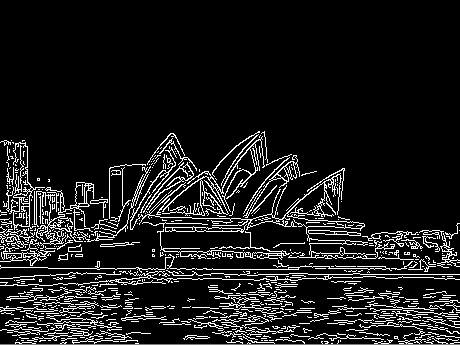opera house: (78, 128, 359, 255)
